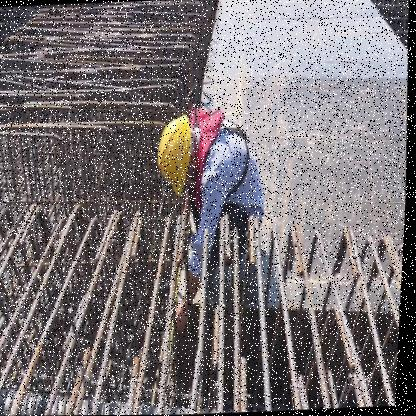helmet: (158, 109, 198, 201)
